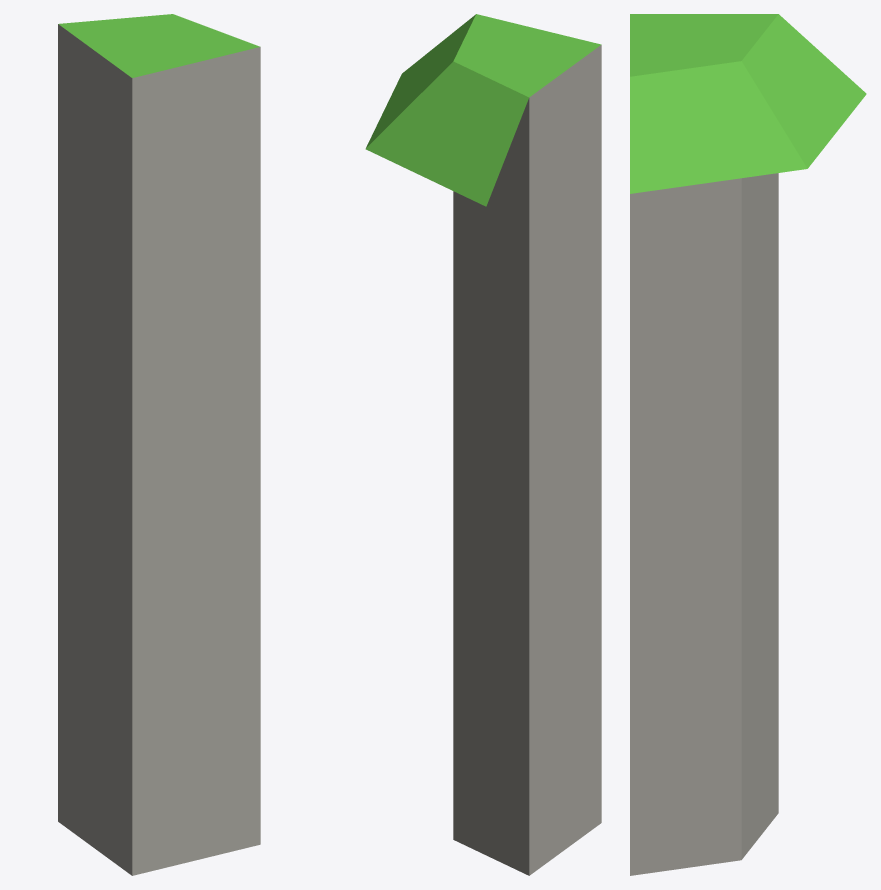
File: cliff_cornerTop_stone.glb
3 renders of one model, left to right at view 1: azimuth 30°, elevation 25°; view 2: azimuth 150°, elevation 25°; view 3: azimuth 270°, elevation 25°, orthographic. The views are drawn at different scales.
Visible parts, largest first — view 1: cliff_cornerTop_stone; view 2: cliff_cornerTop_stone; view 3: cliff_cornerTop_stone.
Part boxes in pixels (x1,y1,x2,y2): cliff_cornerTop_stone: (58, 14, 260, 875); cliff_cornerTop_stone: (365, 14, 601, 875); cliff_cornerTop_stone: (630, 14, 866, 875).
Bounding box in the file's own units: 0.2685 × 1 × 0.2685.
